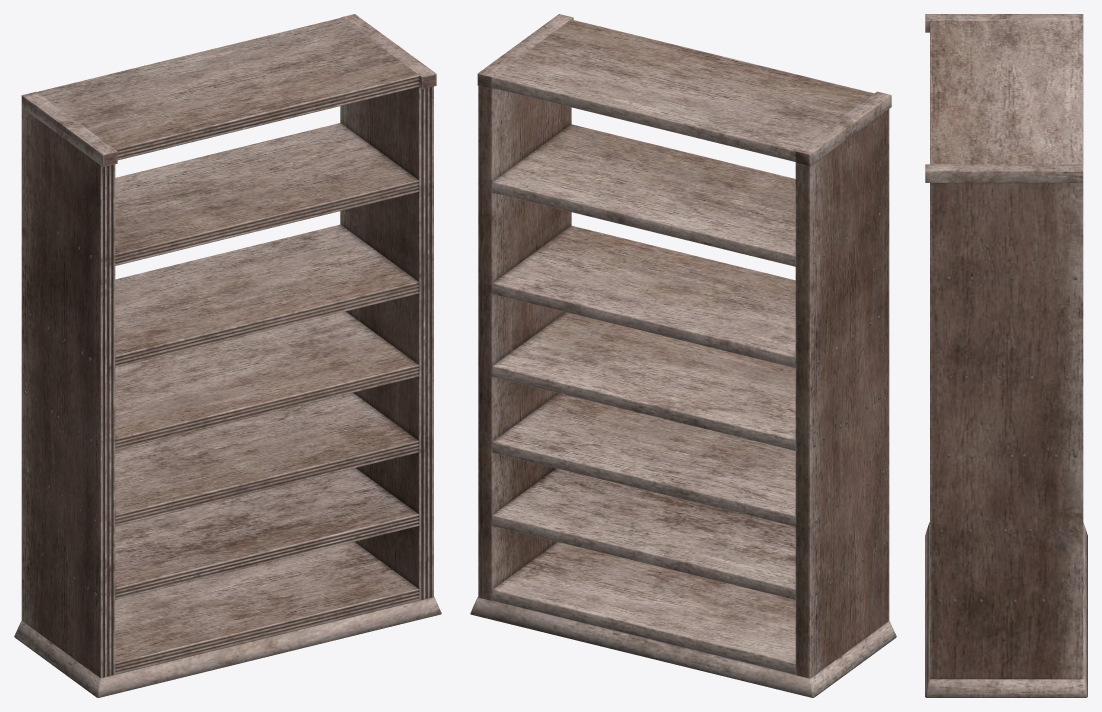
The model's file is wooden_bookshelf_worn.glb.
The picture shows the model from 3 angles, left to right: view 1: azimuth 30°, elevation 25°; view 2: azimuth 150°, elevation 25°; view 3: azimuth 270°, elevation 25°; orthographic projection. The views are drawn at different scales.
Visible parts, largest first — view 1: wooden_bookshelf_worn; view 2: wooden_bookshelf_worn; view 3: wooden_bookshelf_worn.
Boxes of the visible parts, x1,y1,x2,y2 form: wooden_bookshelf_worn: (14,14,441,697); wooden_bookshelf_worn: (470,14,896,697); wooden_bookshelf_worn: (925,14,1087,697).
Bounding box in the file's own units: 1.37 × 2.06 × 0.5813.
Materials: 1 (1 with a texture image).
